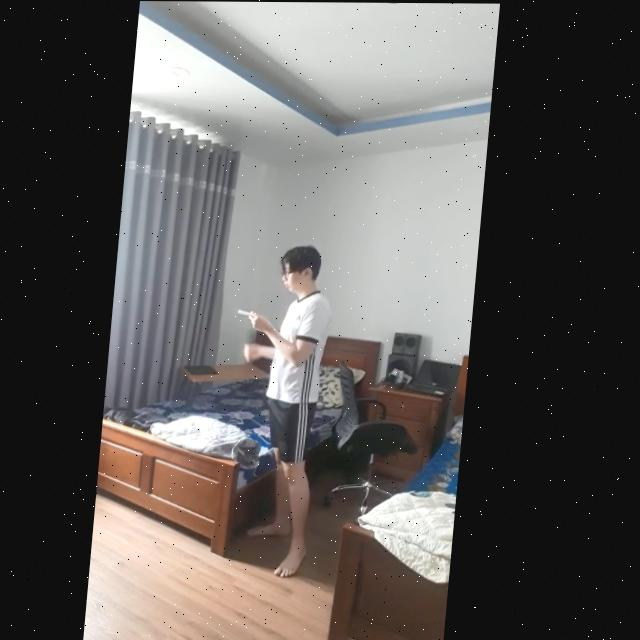cigarette: (244, 307, 259, 316)
